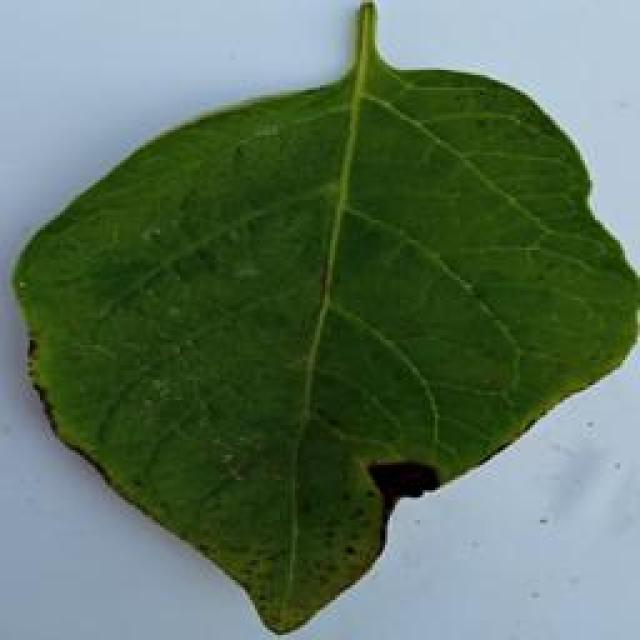Potato_Late_Blight: (13, 4, 629, 632)
